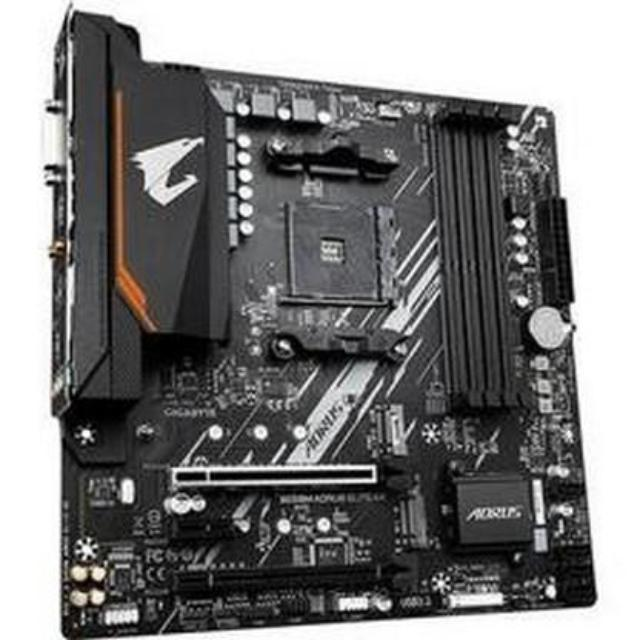Mainboard: (19, 0, 606, 632)
